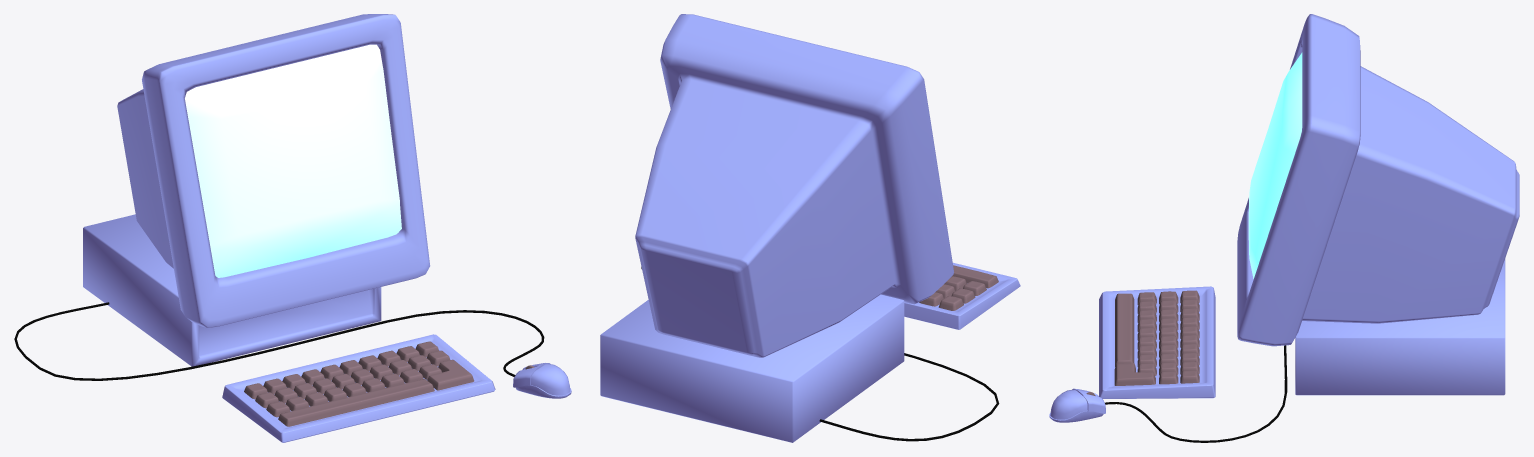
3 renders of one model, left to right at view 1: azimuth 30°, elevation 25°; view 2: azimuth 150°, elevation 25°; view 3: azimuth 270°, elevation 25°, orthographic. The views are drawn at different scales.
Parts seen in each view (by area): view 1: SCREEN.002, MONITOR, PC, KEYS, KEYBOARD, SPACE.001, BezierCurve.001, polySurface29; view 2: MONITOR, PC, KEYBOARD, KEYS, BezierCurve.001, SPACE.001; view 3: MONITOR, PC, KEYBOARD, KEYS, SCREEN.002, SPACE.001, polySurface29, BezierCurve.001.
Boxes of the visible parts, left/top/right/bottom form: SCREEN.002: left=185, top=44, right=401, bottom=277; MONITOR: left=117, top=14, right=430, bottom=327; PC: left=83, top=214, right=381, bottom=366; KEYS: left=244, top=341, right=474, bottom=417; KEYBOARD: left=222, top=334, right=495, bottom=442; SPACE.001: left=278, top=379, right=434, bottom=426; BezierCurve.001: left=14, top=302, right=544, bottom=380; polySurface29: left=531, top=363, right=570, bottom=395; MONITOR: left=635, top=14, right=953, bottom=357; PC: left=600, top=294, right=904, bottom=442; KEYBOARD: left=904, top=262, right=1020, bottom=329; KEYS: left=919, top=276, right=986, bottom=310; BezierCurve.001: left=641, top=267, right=999, bottom=441; SPACE.001: left=952, top=265, right=998, bottom=288; MONITOR: left=1237, top=14, right=1519, bottom=346; PC: left=1295, top=259, right=1505, bottom=395; KEYBOARD: left=1099, top=286, right=1215, bottom=398; KEYS: left=1114, top=290, right=1199, bottom=385; SCREEN.002: left=1248, top=52, right=1302, bottom=278; SPACE.001: left=1115, top=293, right=1134, bottom=366; polySurface29: left=1050, top=389, right=1087, bottom=419; BezierCurve.001: left=1105, top=345, right=1287, bottom=442.
Size of the model in its own units: 1.15 by 0.7879 by 1.18.
